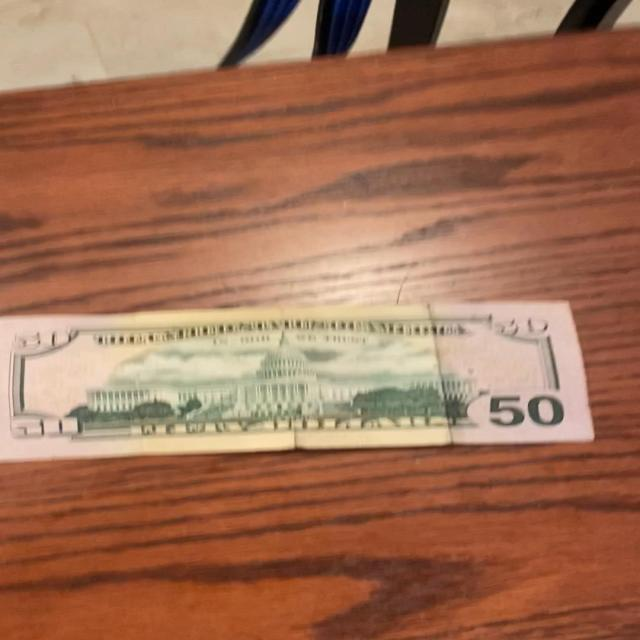50-Back: (0, 304, 592, 472)
